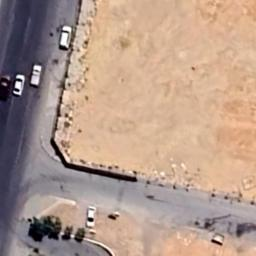SUV: (58, 24, 72, 50)
sedan: (13, 73, 25, 96), (0, 74, 10, 100), (86, 206, 96, 228)
van: (29, 64, 43, 88)
